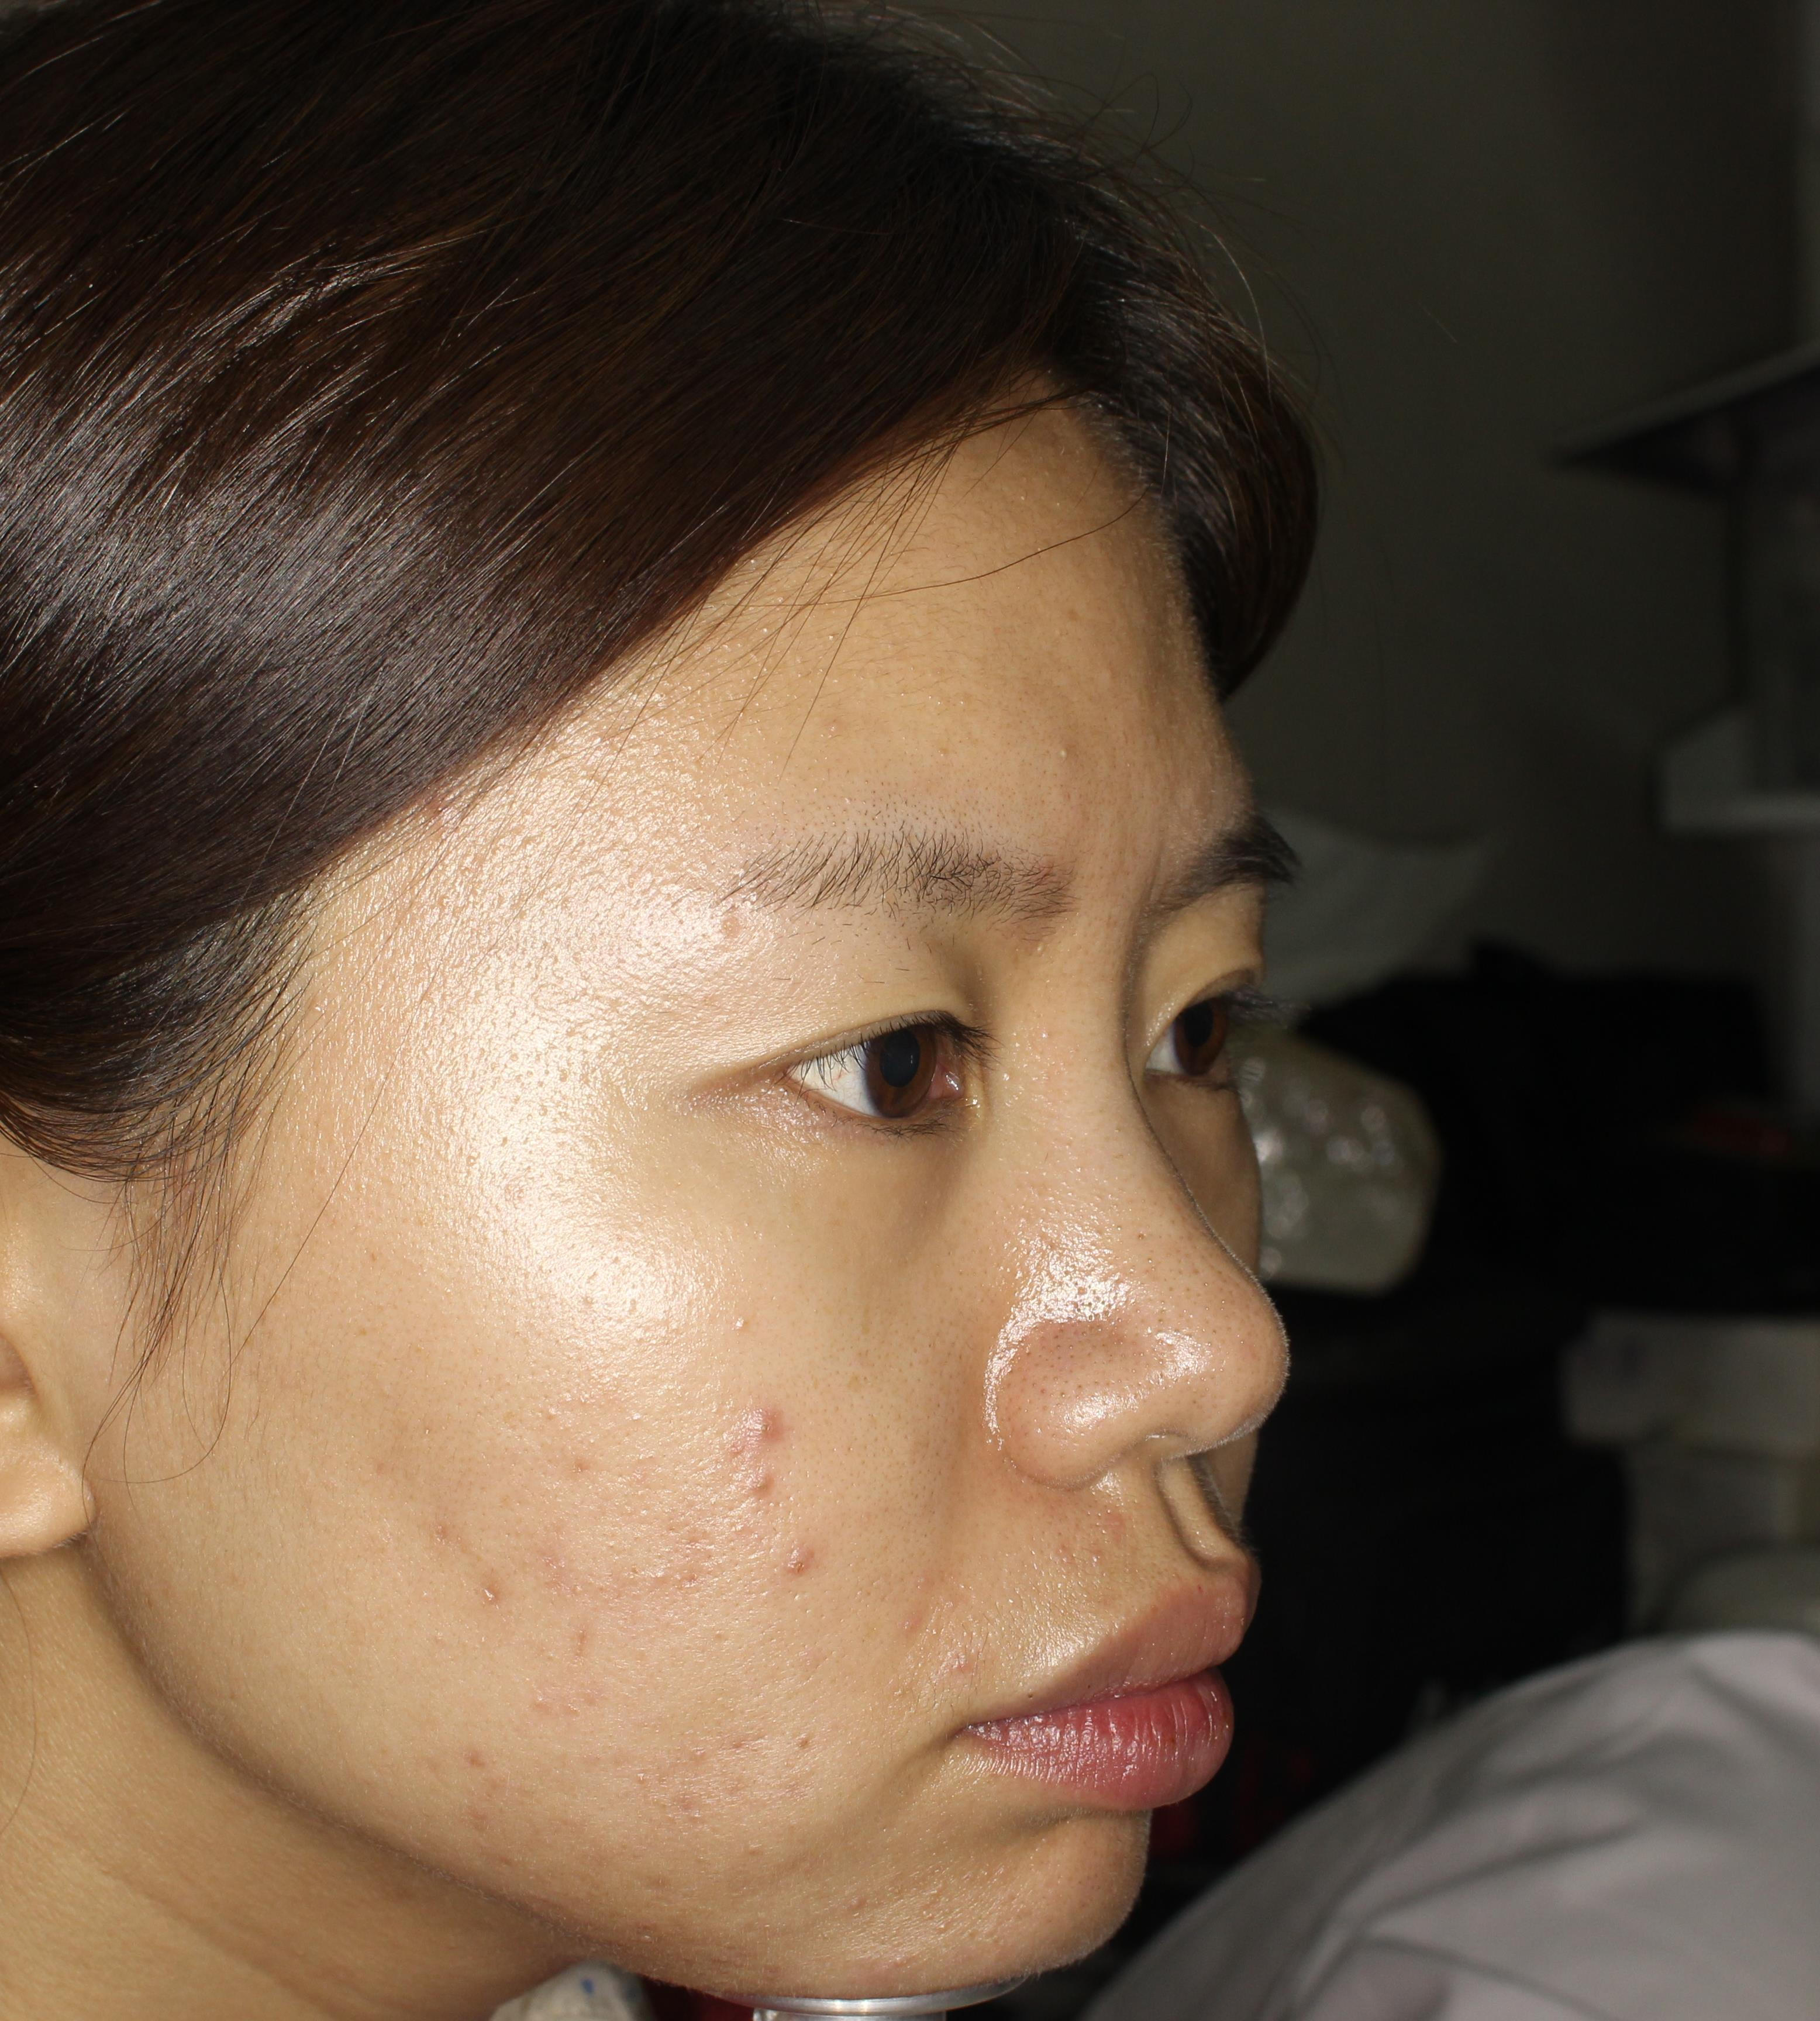fore: (611, 1889, 719, 1984), (762, 1514, 840, 1594), (722, 1442, 812, 1505), (736, 1370, 808, 1442), (462, 1724, 516, 1794), (476, 1549, 511, 1612)
